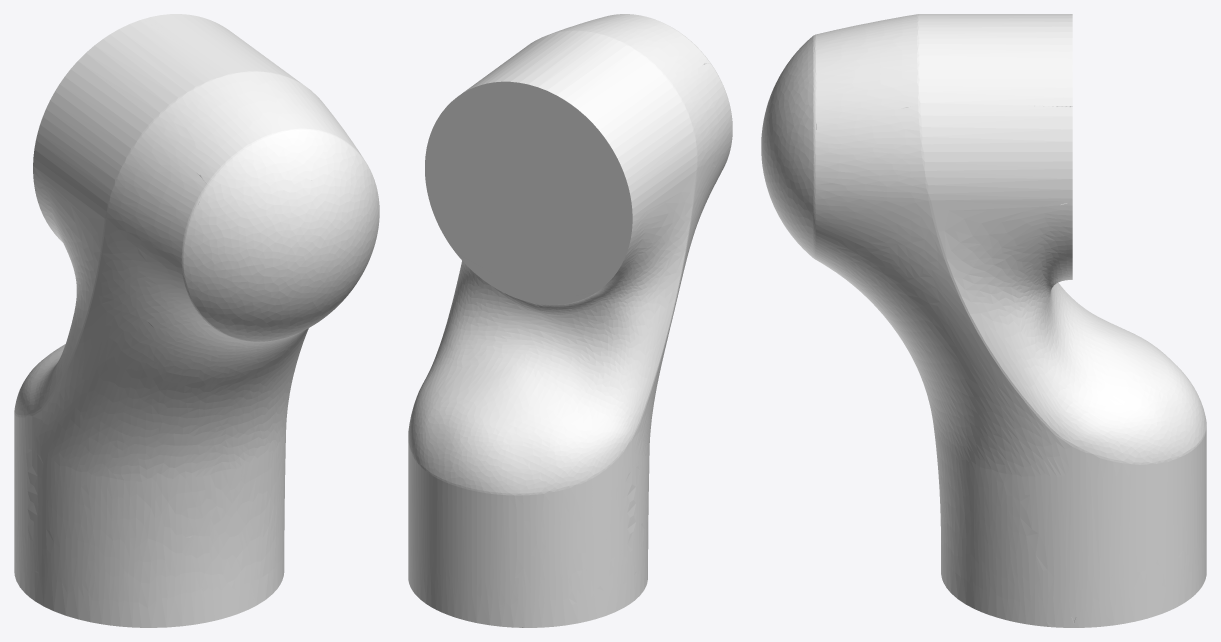
The picture shows the model from 3 angles, left to right: view 1: azimuth 30°, elevation 25°; view 2: azimuth 150°, elevation 25°; view 3: azimuth 270°, elevation 25°; orthographic projection. The views are drawn at different scales.
Parts seen in each view (by area): view 1: node0; view 2: node0; view 3: node0.
Boxes of the visible parts, bbox=[...] form: node0: bbox=[14, 14, 379, 627]; node0: bbox=[408, 14, 732, 627]; node0: bbox=[761, 14, 1206, 627].
Size of the model in its own units: 0.11 by 0.249 by 0.1844.
1 material, 1 textured.
